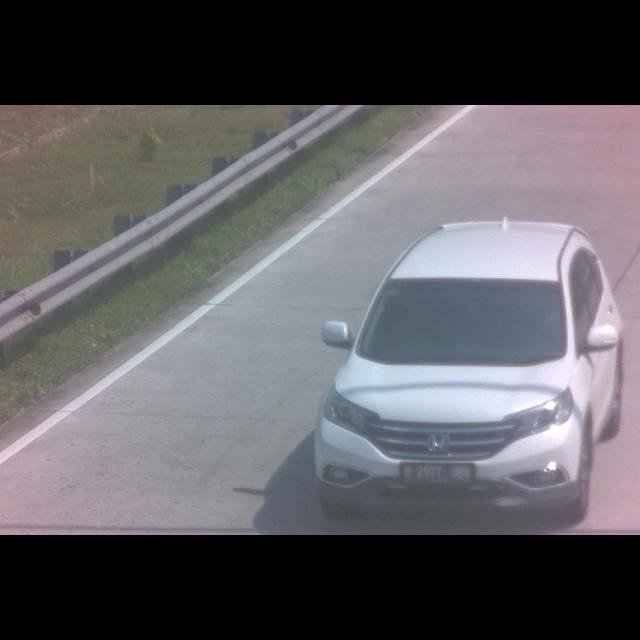plate: (399, 458, 473, 486)
